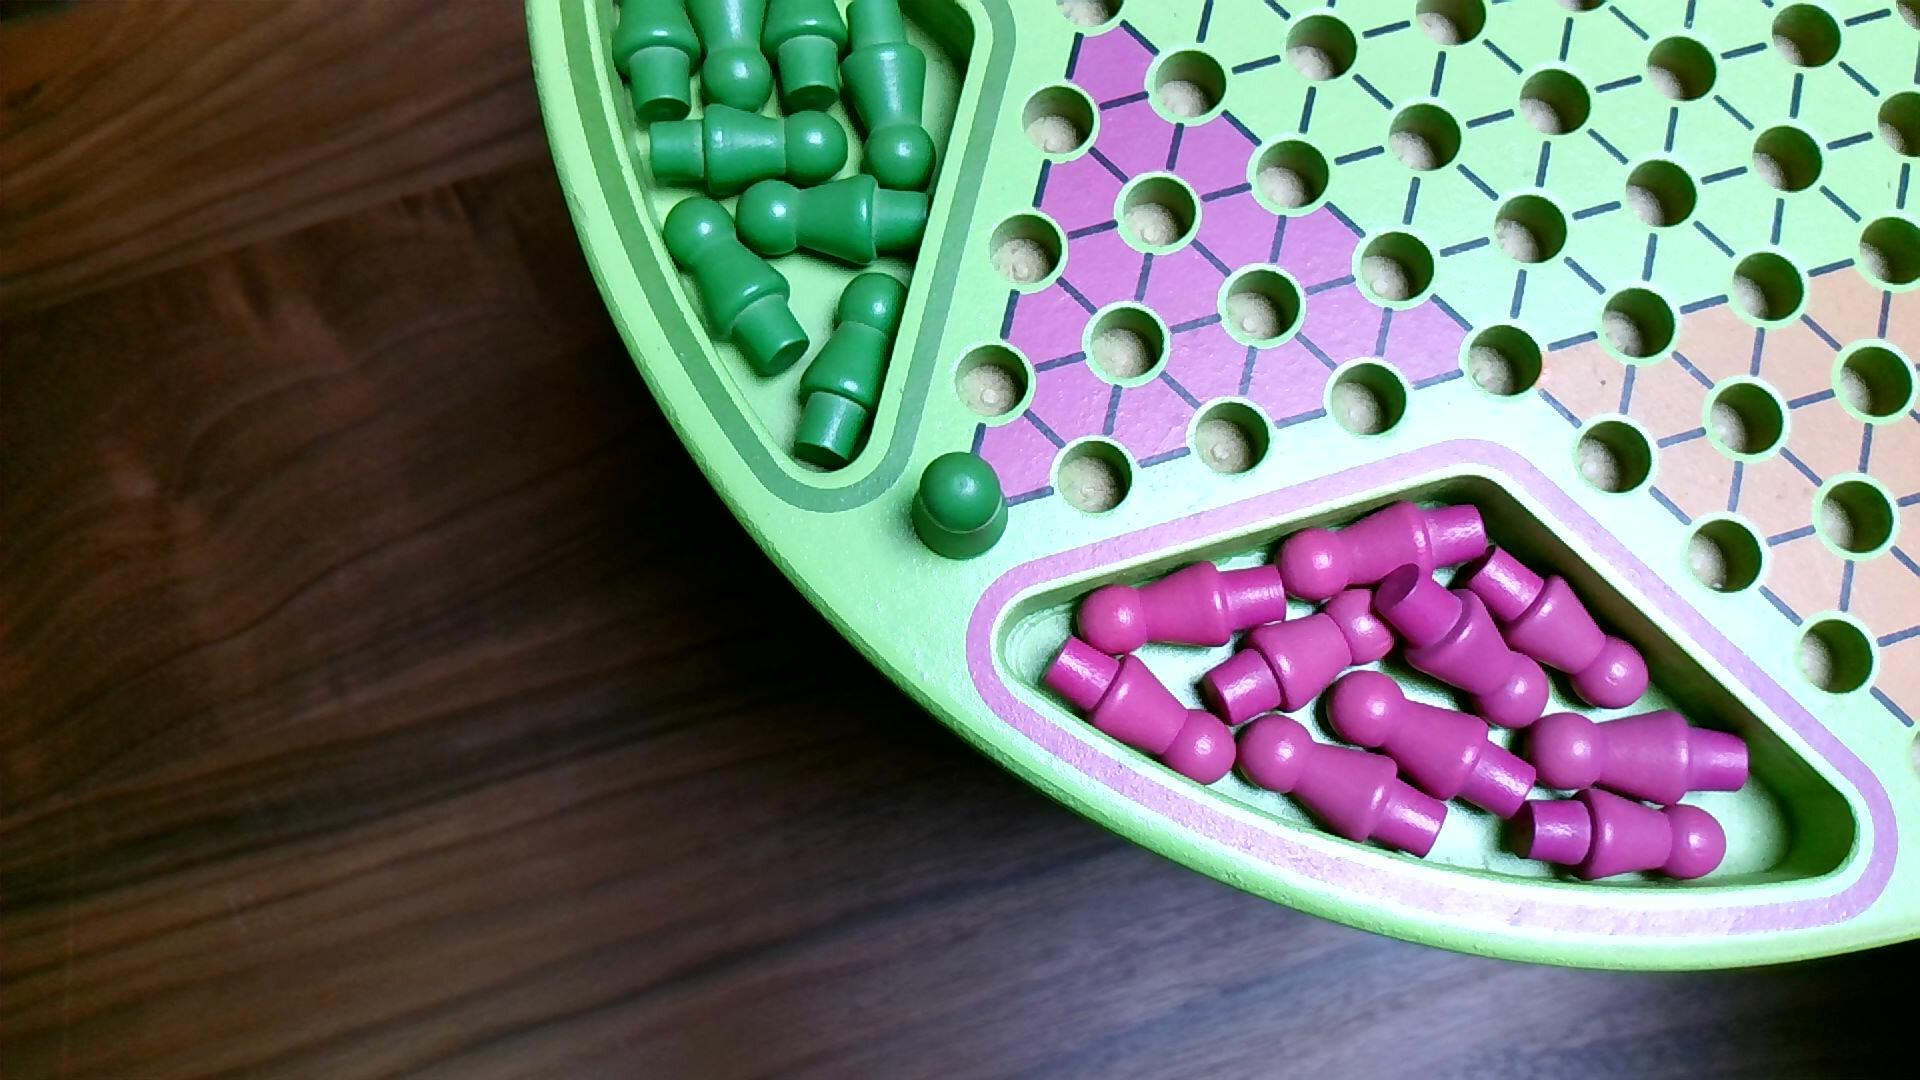G: (907, 446, 1015, 566)
